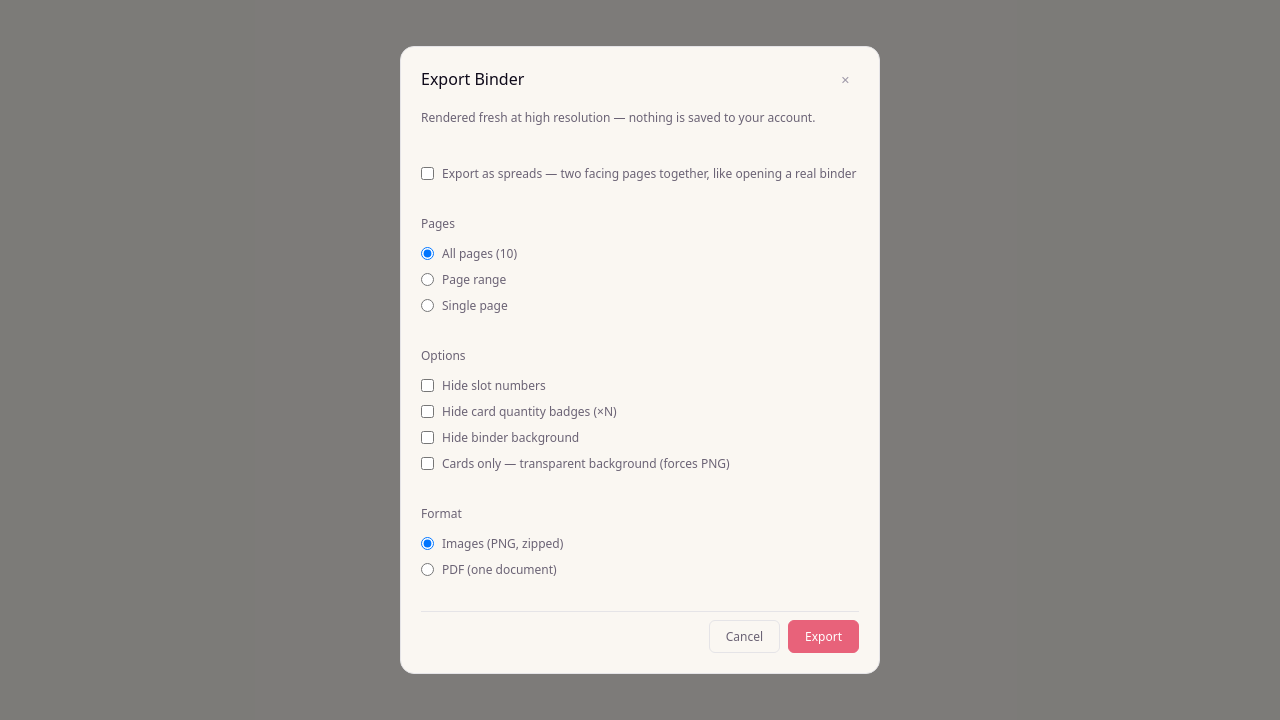
Test: ExportBinderModal — cards-only / format interaction › checking "Cards only" forces the format to PNG
What coordinates should you click on to do the following:
click the text "PDF (one document)"
I would click on:
 (489, 569)
Its box is [421,561,557,578].
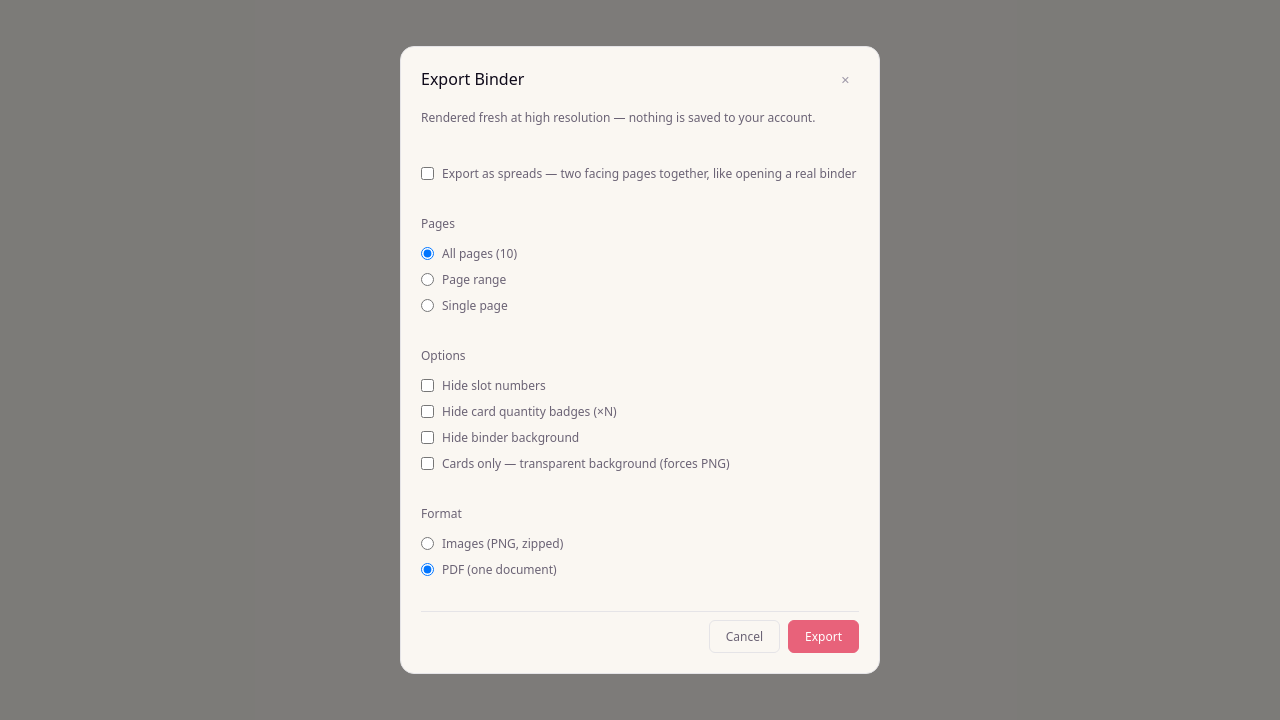
Expected: the radio button labelled "PDF (one document)" is checked, [421,563,434,576]
What coordinates should you click on to do the following:
click the text "Cards only — transparent background (forces PNG)"
I would click on:
 (575, 463)
Its box is [421,455,730,472].
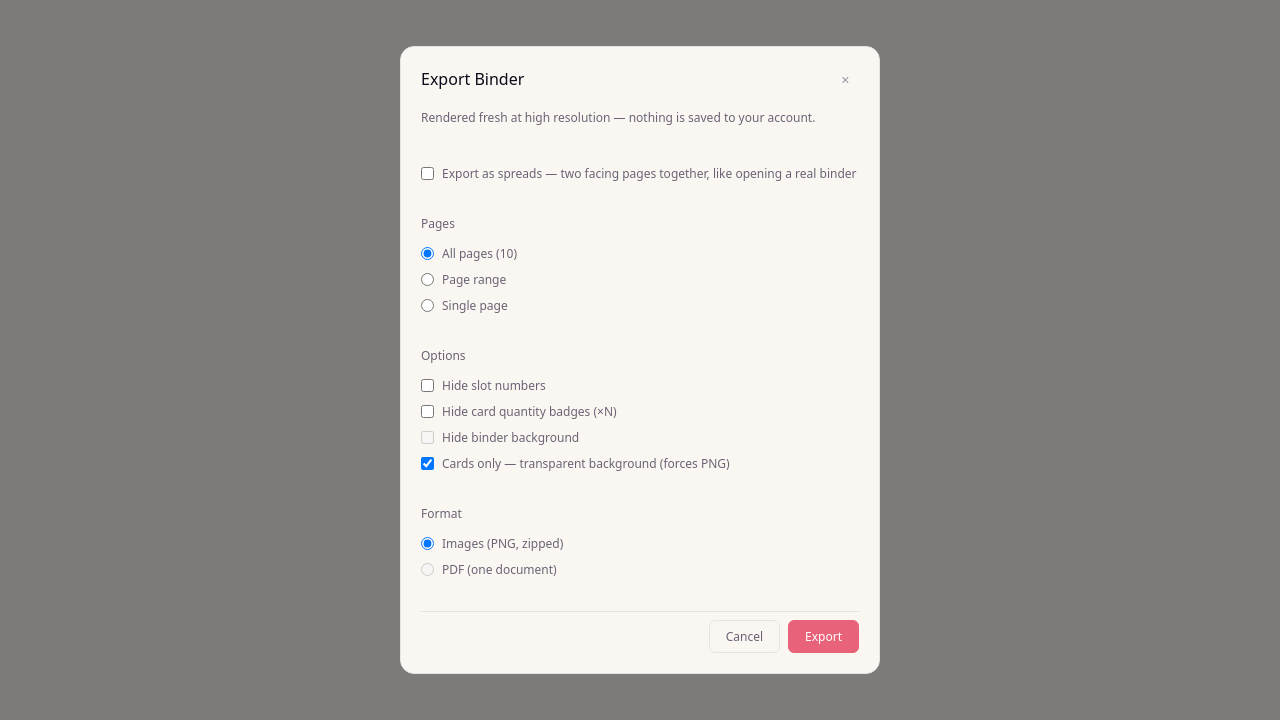
Expected: the radio button labelled "Images (PNG, zipped)" is checked, [421,537,434,550]
